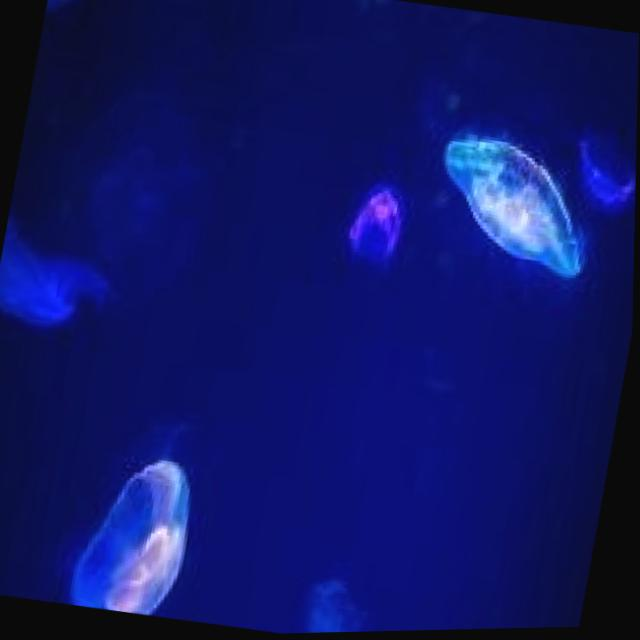Box-jellyfish: (424, 120, 609, 288), (70, 442, 207, 622), (0, 177, 136, 339), (341, 180, 413, 275), (567, 128, 638, 215)
